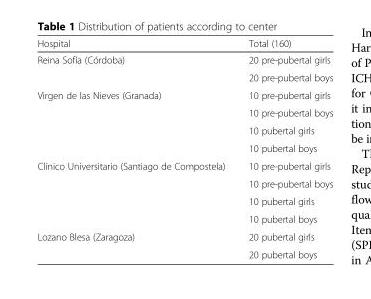table: (36, 37, 332, 259)
table column: (36, 37, 236, 259), (236, 37, 332, 259)
table column header: (36, 37, 332, 51)
table row: (36, 85, 332, 103), (36, 103, 332, 121), (36, 121, 332, 139), (36, 156, 332, 174), (36, 174, 332, 192), (36, 209, 332, 227), (36, 227, 332, 245), (36, 51, 332, 68), (36, 68, 332, 85), (36, 139, 332, 156), (36, 192, 332, 209), (36, 37, 332, 51), (36, 245, 332, 259)
table spanning cell: (36, 85, 236, 156), (36, 156, 236, 227), (36, 51, 236, 85), (36, 227, 236, 259)
